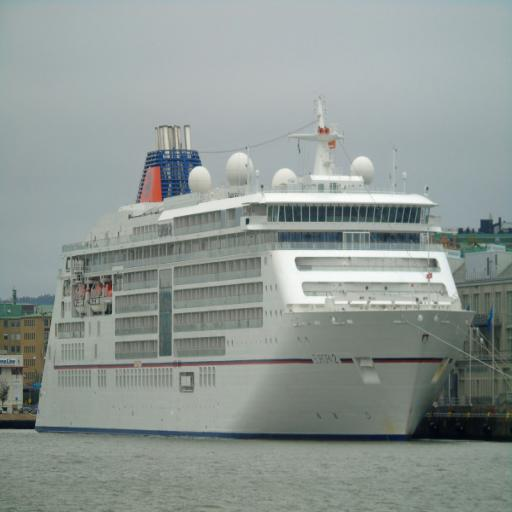cruises: (30, 95, 480, 450)
